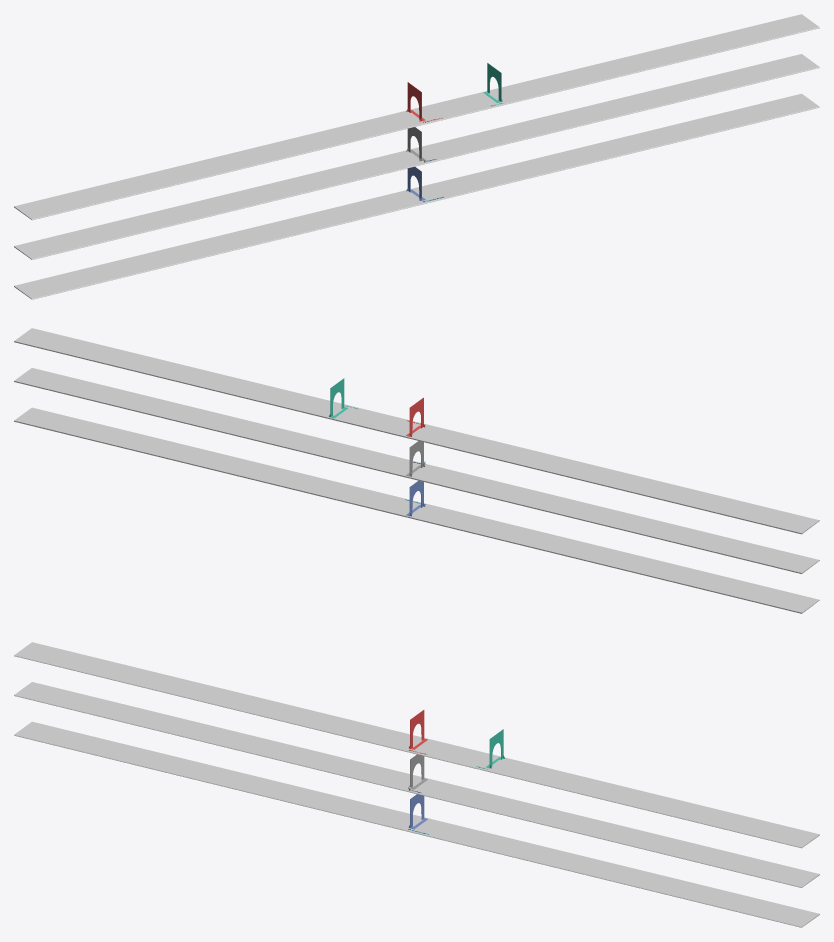
3 renders of one model, top to bottom at view 1: azimuth 30°, elevation 25°; view 2: azimuth 150°, elevation 25°; view 3: azimuth 330°, elevation 25°, orthographic.
Visible parts, largest first — view 1: bookshelf; view 2: bookshelf; view 3: bookshelf.
Boxes of the visible parts, x1,y1,x2,y2 form: bookshelf: (14, 14, 819, 299); bookshelf: (14, 328, 819, 613); bookshelf: (14, 642, 819, 927).
Size of the model in its own units: 51.55 by 6.85 by 2.05.
Materials: 13 (1 with a texture image).
